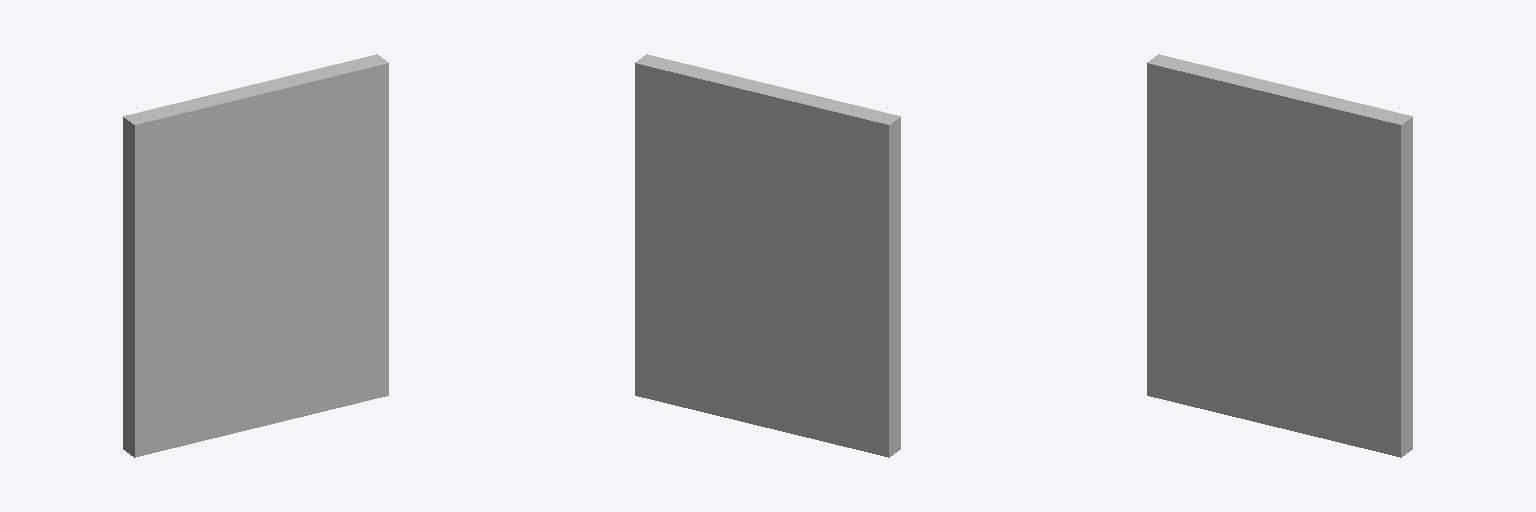
The model's file is wall_1.obj.
3 views of the same model, side by side, from view 1: azimuth 30°, elevation 25°; view 2: azimuth 150°, elevation 25°; view 3: azimuth 330°, elevation 25° (orthographic).
Parts seen in each view (by area): view 1: Плоскость.013; view 2: Плоскость.013; view 3: Плоскость.013.
Boxes of the visible parts, <box> form: Плоскость.013: <box>123,54,388,457</box>; Плоскость.013: <box>635,54,900,457</box>; Плоскость.013: <box>1147,54,1412,457</box>.
Bounding box in the file's own units: 4.04 × 5.04 × 0.3278.